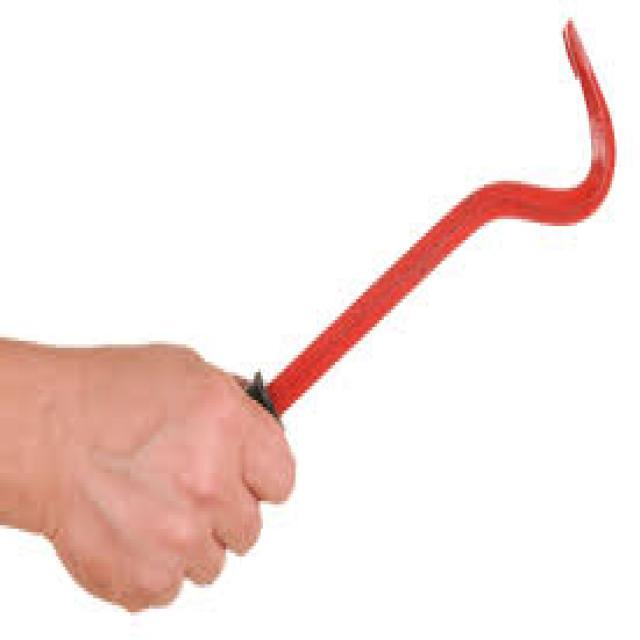Linggis: (272, 23, 616, 424)
